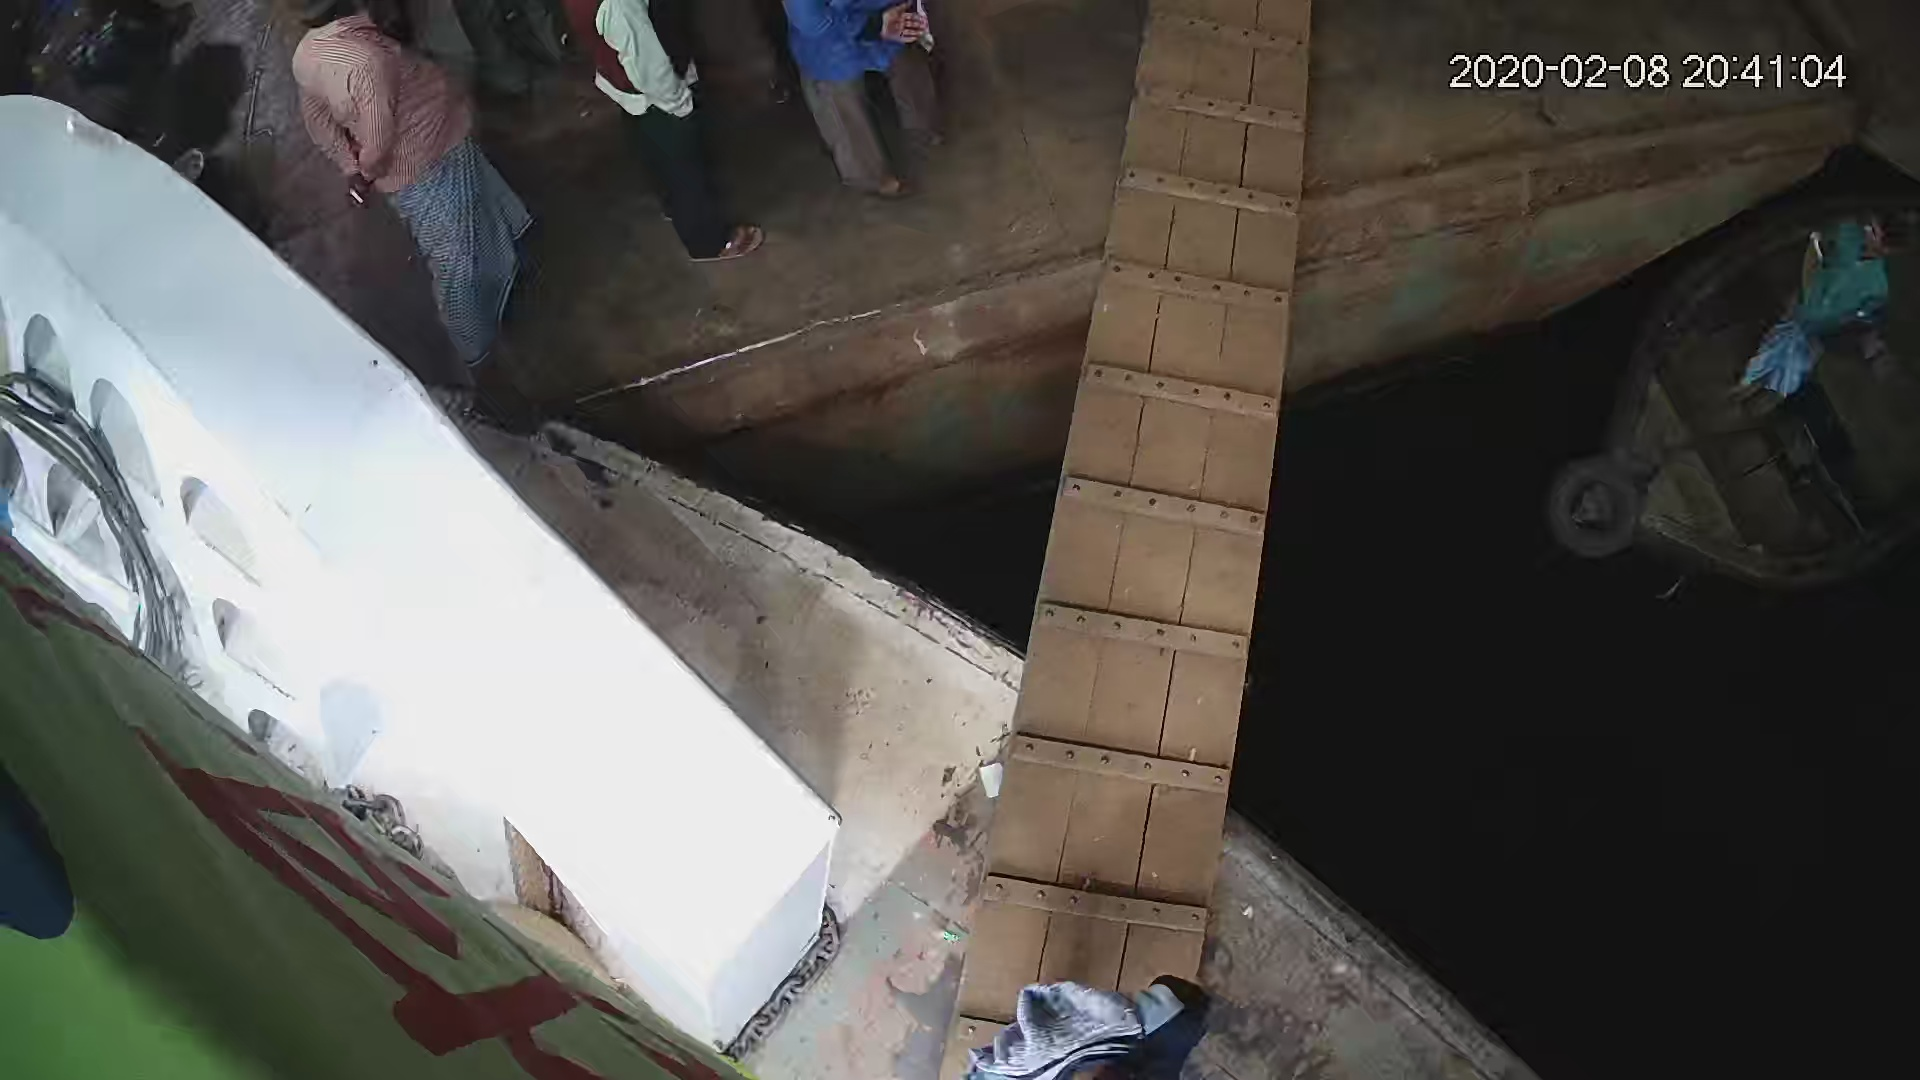person: (290, 3, 527, 391), (554, 1, 761, 270), (1723, 203, 1902, 413)
